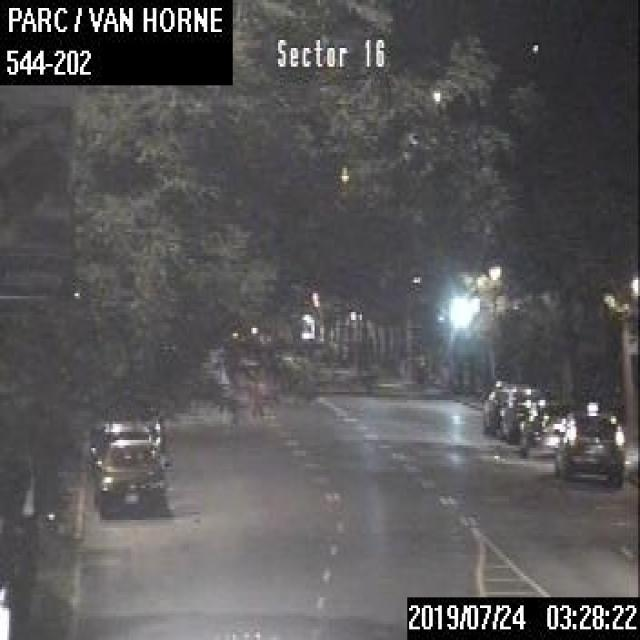vehicle: (92, 436, 170, 514), (551, 409, 624, 485), (89, 420, 153, 471), (520, 403, 574, 456), (498, 384, 546, 439), (481, 378, 526, 427)
